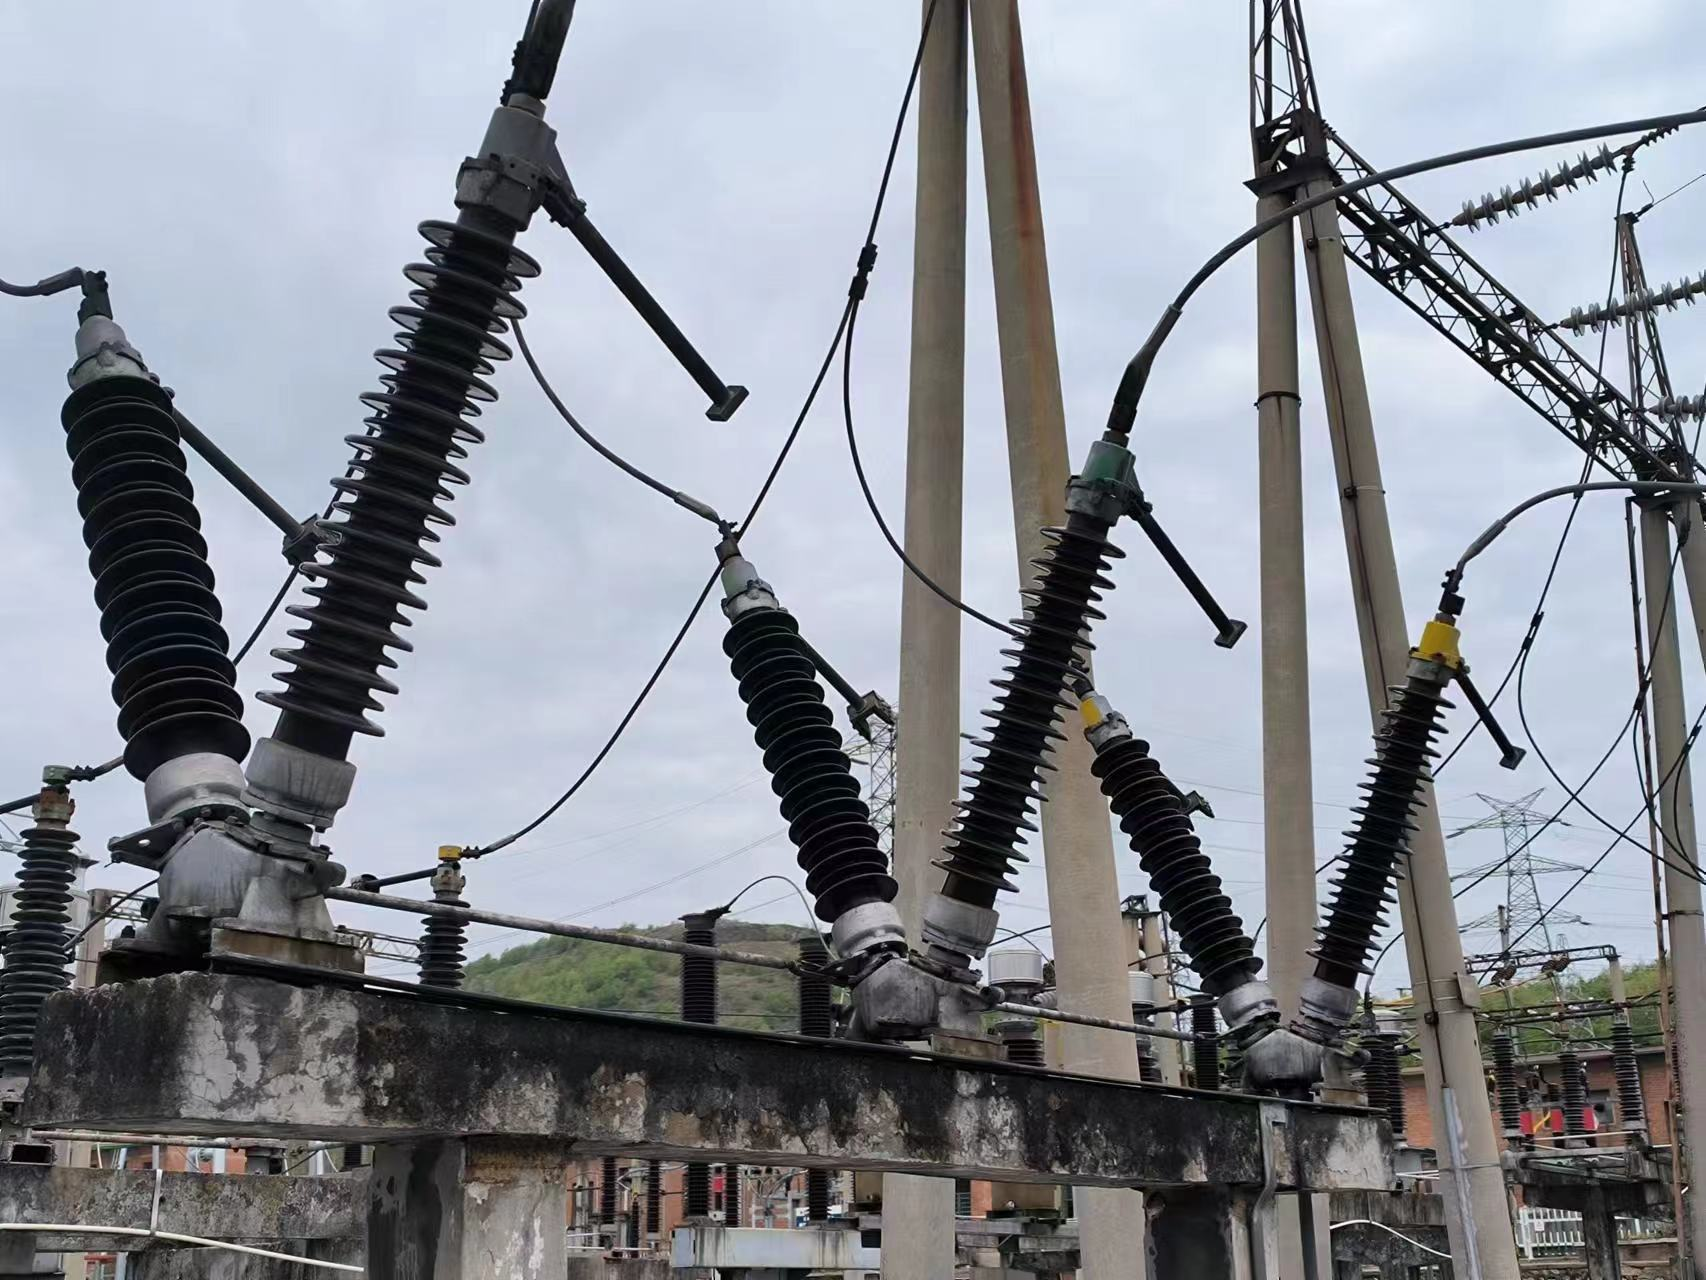Isolating switch: (34, 91, 752, 959), (696, 453, 1252, 1014), (1071, 588, 1539, 1082)
